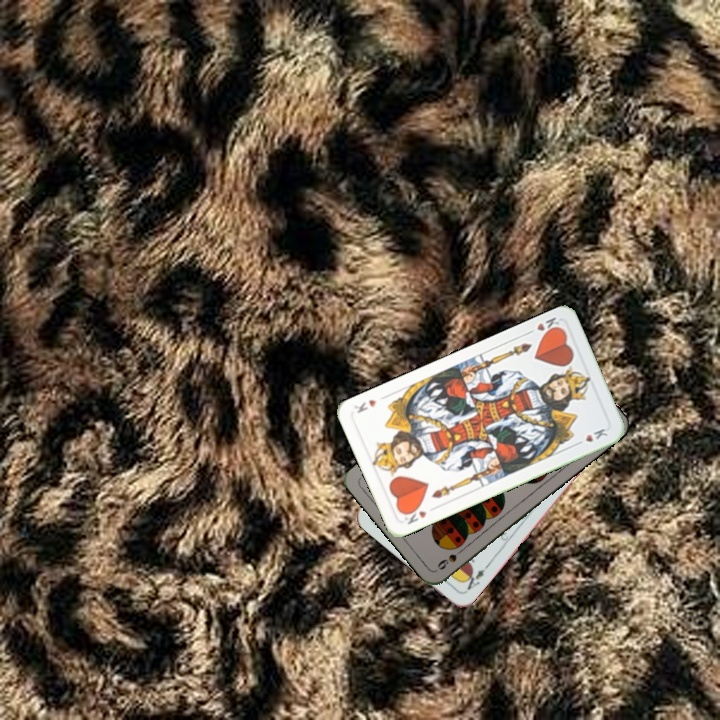EA: (459, 561, 491, 595)
HK: (523, 313, 564, 338), (399, 503, 429, 527)
S9: (433, 543, 468, 573)
